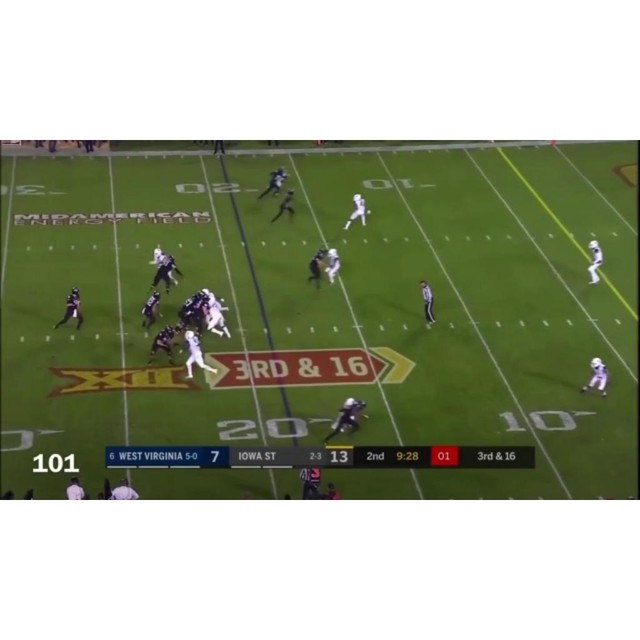american-football-player: (323, 398, 369, 446), (182, 329, 216, 381), (52, 287, 84, 332), (146, 324, 177, 366), (579, 358, 609, 397), (204, 297, 231, 339), (343, 193, 370, 230), (257, 168, 288, 200), (176, 291, 202, 329), (140, 291, 162, 334), (271, 188, 296, 225), (306, 248, 327, 291), (586, 240, 604, 284), (325, 248, 342, 286)
referee: (419, 279, 436, 326)
